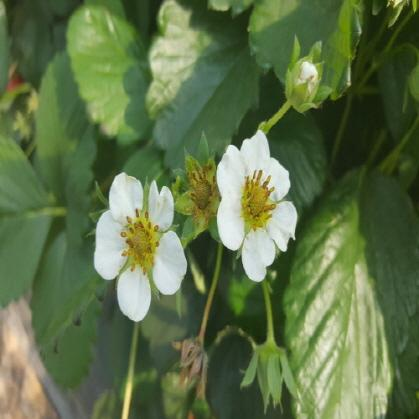Blossom Blight: (116, 204, 162, 275), (239, 167, 281, 233), (186, 164, 218, 215)
